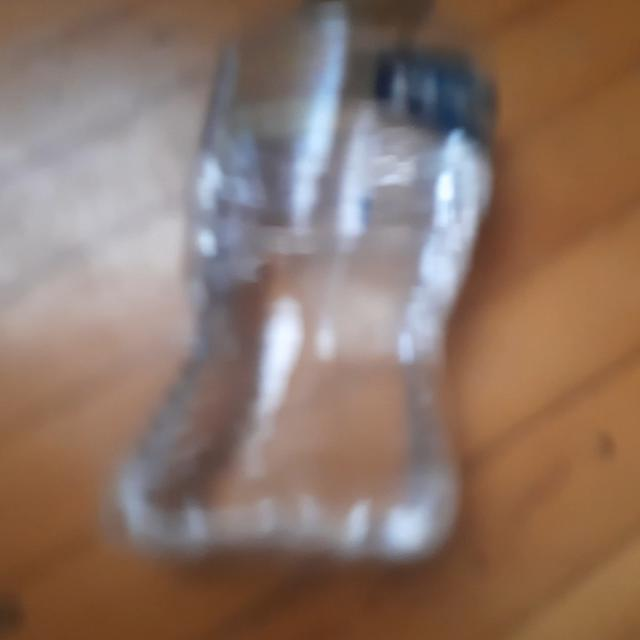Plastic: (103, 0, 498, 602), (212, 42, 506, 148)
